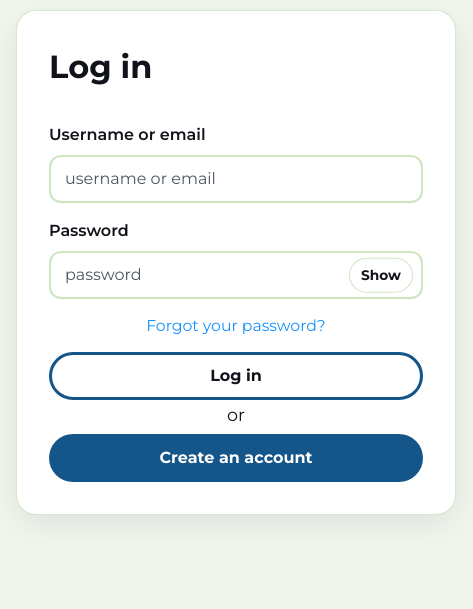
Login page and form › shows backend errors
Step 1. Type "victor" into the field labelled "Username or email" → (236, 179), box [49, 155, 423, 203]
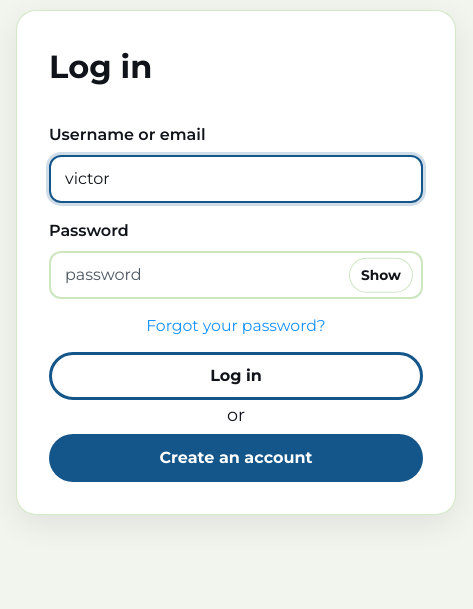
Step 2. Type "wrong-password" into the password field labelled "Password" → (236, 275), box [49, 251, 423, 299]
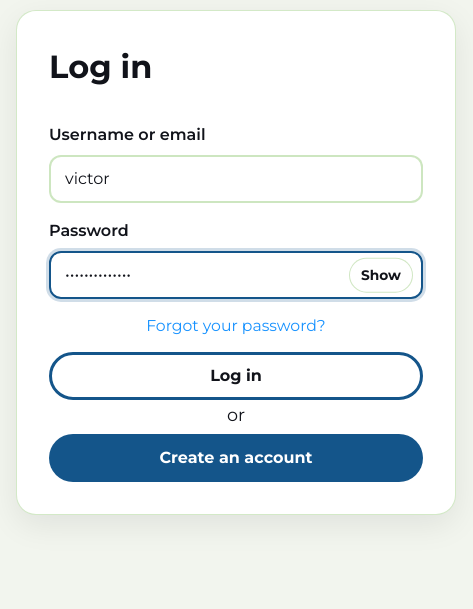
Step 3. Click the button "Log in" → click(236, 376), box [49, 352, 423, 400]
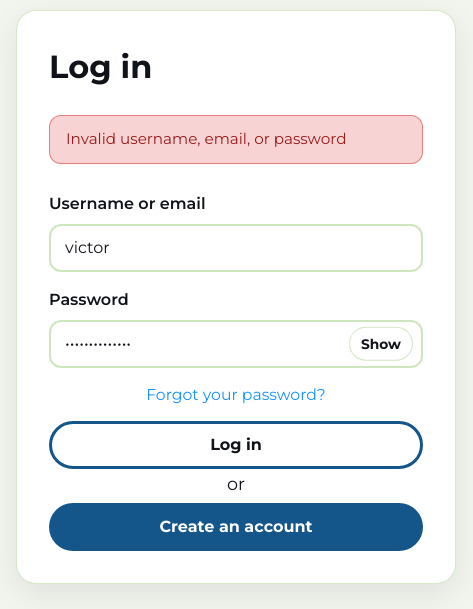
Expected: the text "Invalid username, email, or password" is shown, [49, 115, 423, 164]
